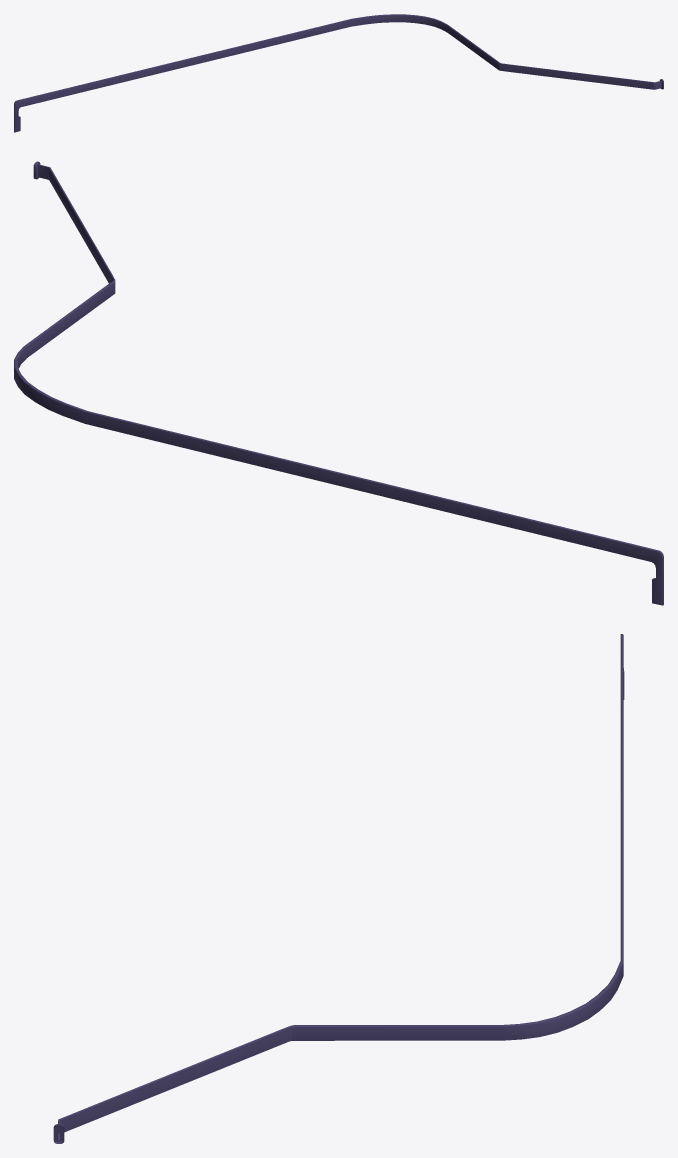
Rendered from Mh_SecondFloorBar.fbx.
3 renders of one model, top to bottom at view 1: azimuth 30°, elevation 25°; view 2: azimuth 150°, elevation 25°; view 3: azimuth 270°, elevation 25°, orthographic. The views are drawn at different scales.
Visible parts, largest first — view 1: Mh_SecondFloorBar; view 2: Mh_SecondFloorBar; view 3: Mh_SecondFloorBar.
Part boxes in pixels (left/top/right/bottom): Mh_SecondFloorBar: left=14, top=14, right=663, bottom=132; Mh_SecondFloorBar: left=14, top=161, right=663, bottom=605; Mh_SecondFloorBar: left=53, top=634, right=624, bottom=1143.
Size of the model in its own units: 1786 by 108 by 869.
